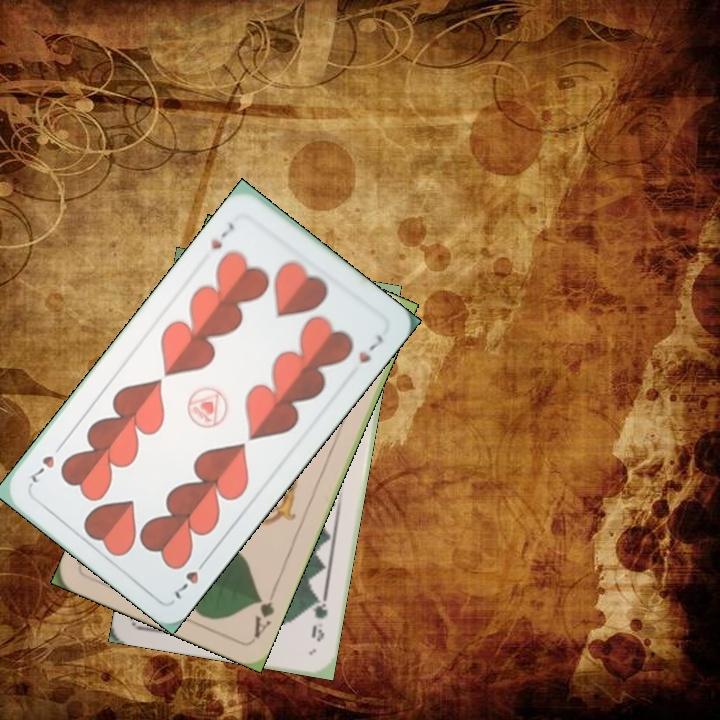G9: (307, 591, 331, 644)
GA: (249, 585, 279, 641)
H7: (170, 553, 211, 602), (206, 218, 238, 252)
